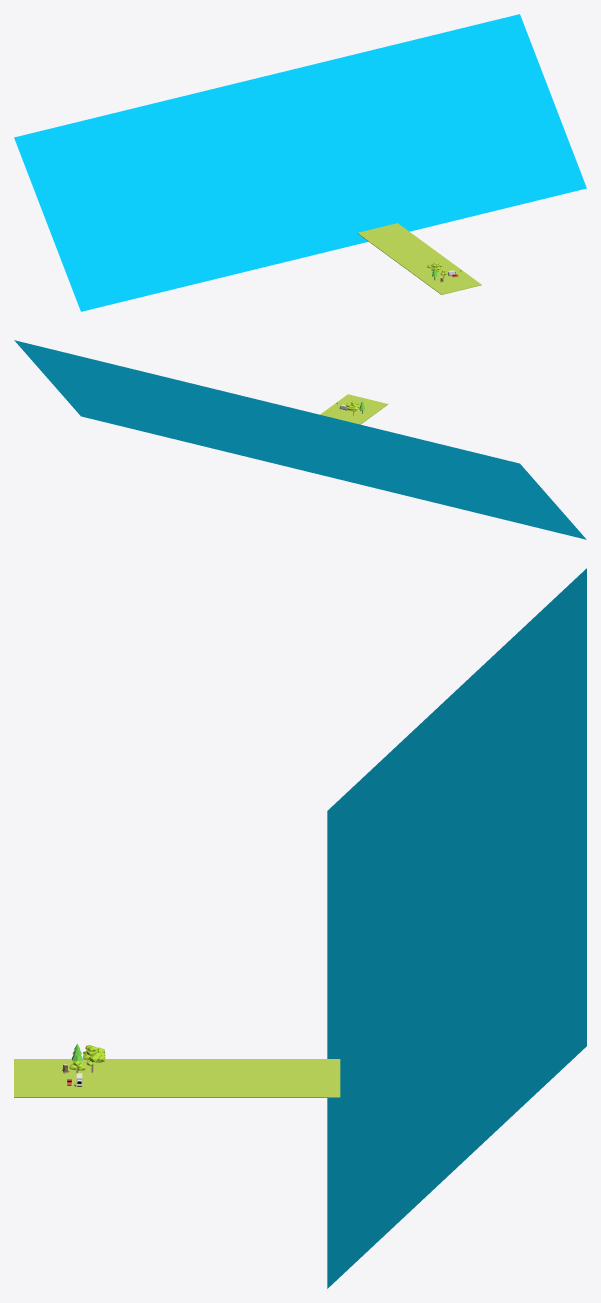
File: thonk_spin.fbx
3 renders of one model, top to bottom at view 1: azimuth 30°, elevation 25°; view 2: azimuth 150°, elevation 25°; view 3: azimuth 270°, elevation 25°, orthographic. The views are drawn at different scales.
Visible parts, largest first — view 1: Plane.002, Plane.017; view 2: Plane.002, Plane.017; view 3: Plane.002, Plane.017.
Part boxes in pixels (x1=…): Plane.002: x1=14, y1=14, x2=586, y2=311; Plane.017: x1=357, y1=223, x2=481, y2=294; Plane.002: x1=14, y1=340, x2=586, y2=539; Plane.017: x1=320, y1=394, x2=388, y2=424; Plane.002: x1=327, y1=568, x2=586, y2=1288; Plane.017: x1=14, y1=1059, x2=340, y2=1097.
Size of the model in its own units: 40643 by 9623 by 20584.
